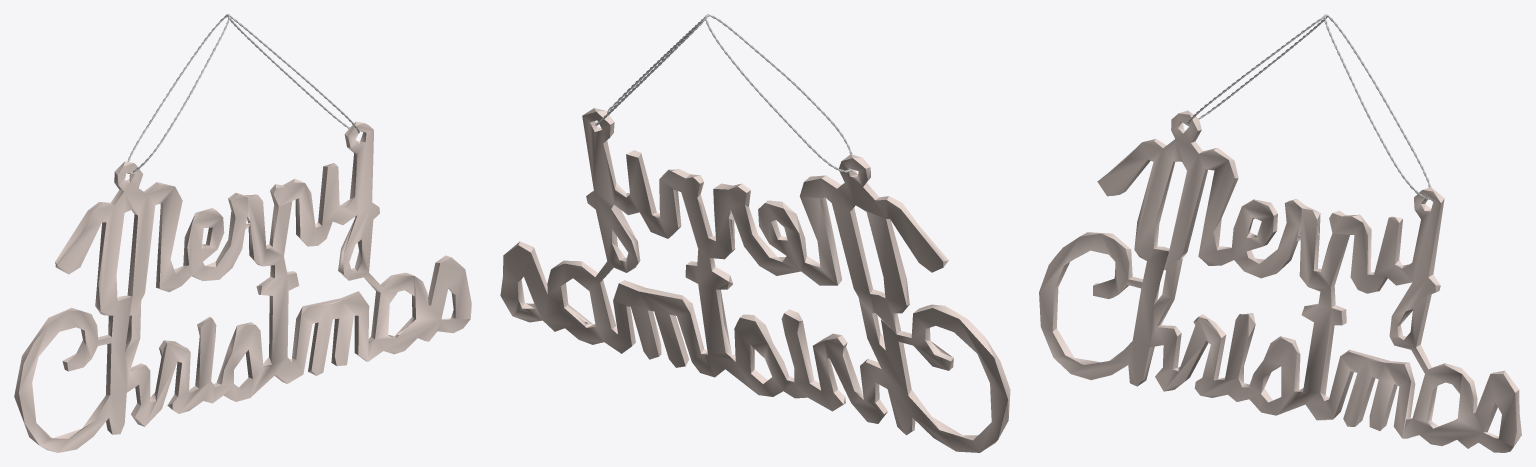
The model's file is Merry_Christmas.glb.
The picture shows the model from 3 angles, left to right: view 1: azimuth 30°, elevation 25°; view 2: azimuth 150°, elevation 25°; view 3: azimuth 330°, elevation 25°; orthographic projection. The views are drawn at different scales.
Parts seen in each view (by area): view 1: Mesh1.0, GN Instance (×2); view 2: Mesh1.0, GN Instance (×2); view 3: Mesh1.0, GN Instance (×2).
Boxes of the visible parts, x1,y1,x2,y2 form: Mesh1.0: (14, 121, 471, 452); GN Instance (×2): (127, 14, 359, 173); Mesh1.0: (500, 108, 1010, 452); GN Instance (×2): (595, 14, 852, 172); Mesh1.0: (1039, 110, 1521, 452); GN Instance (×2): (1187, 14, 1430, 199).
Bounding box in the file's own units: 0.2484 × 0.1912 × 0.0376.
